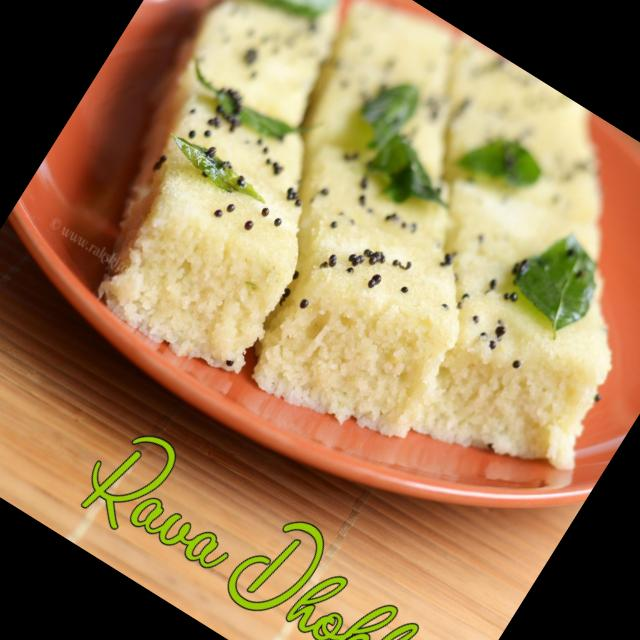dhokla: (46, 0, 640, 551)
